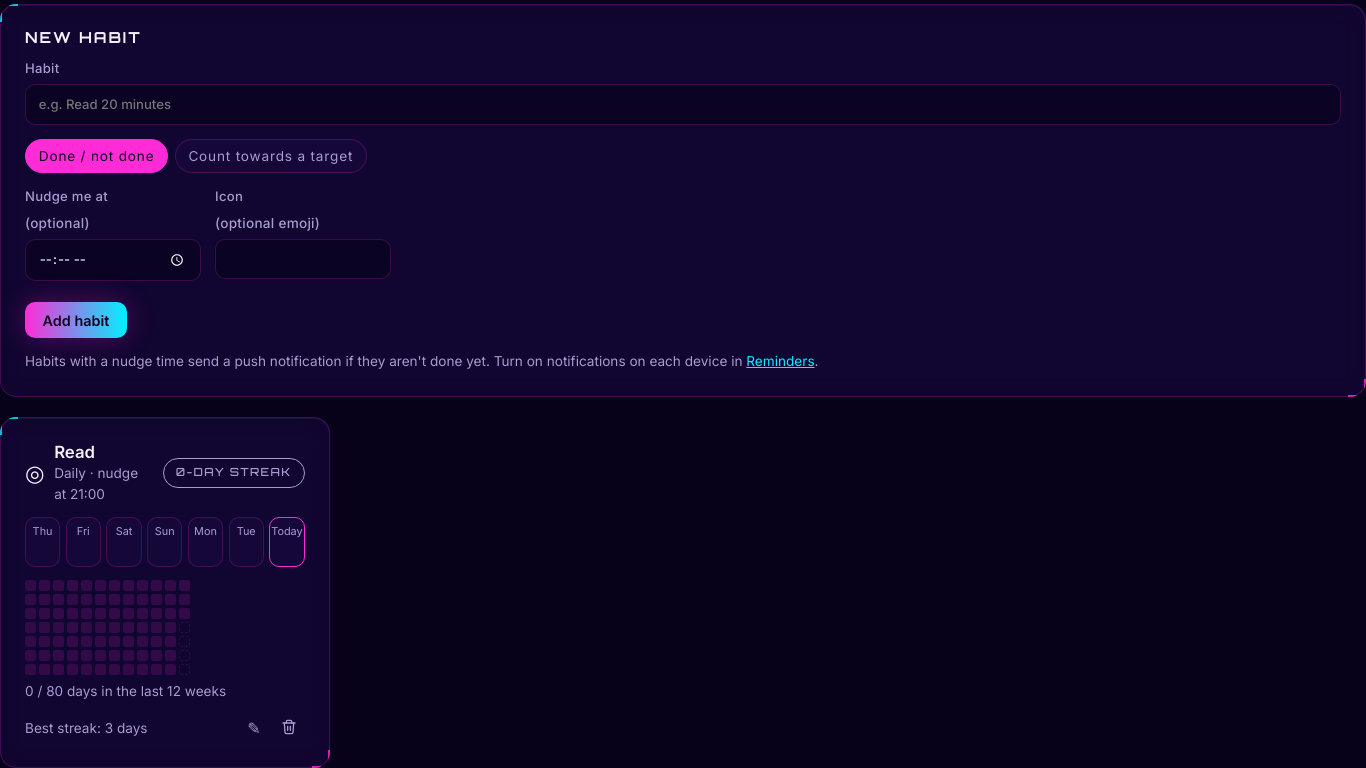
HabitsApp › ticks today optimistically and keeps it once the API agrees
The image size is (1366, 768).
(page scrolled)
Step 1. Click the button "Today" → (287, 542), box [269,517,304,567]
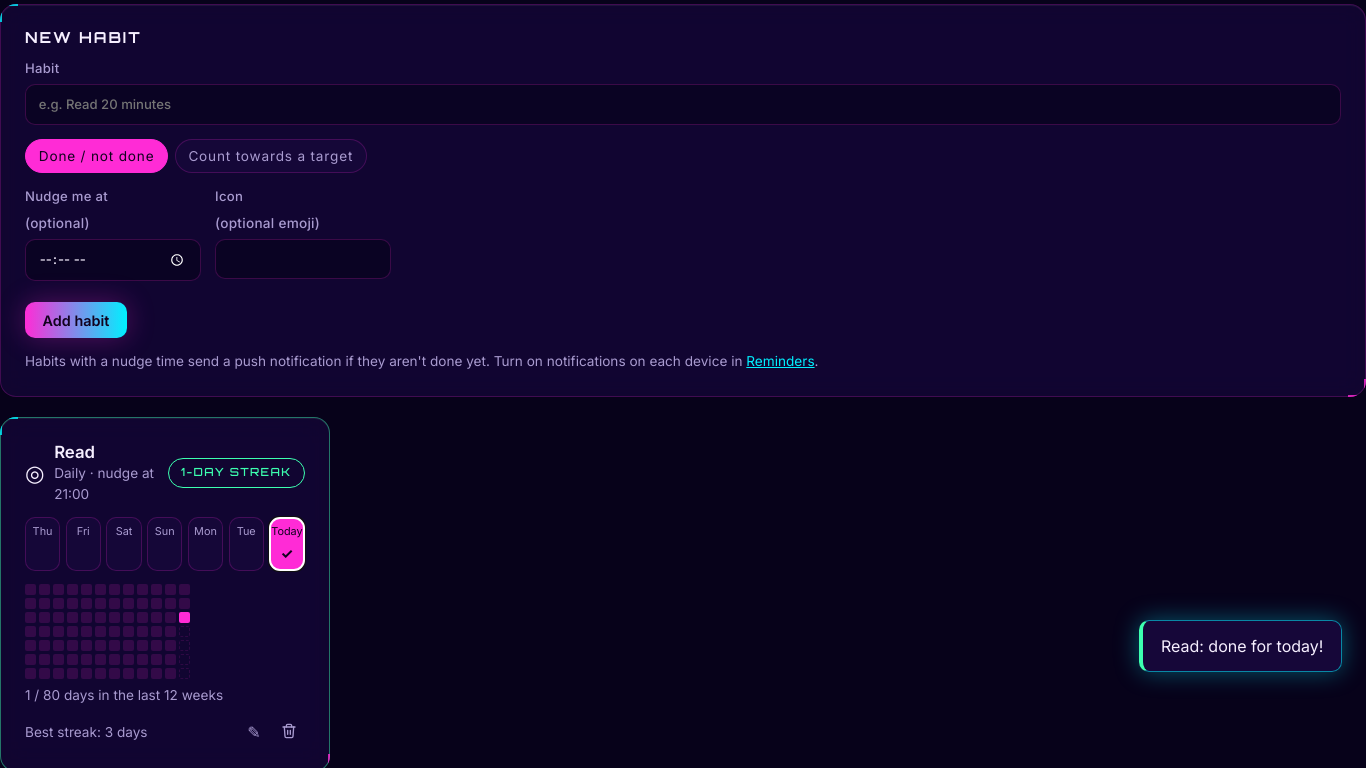
Check: the text "1-day streak" is shown, box [168,458,304,488]
